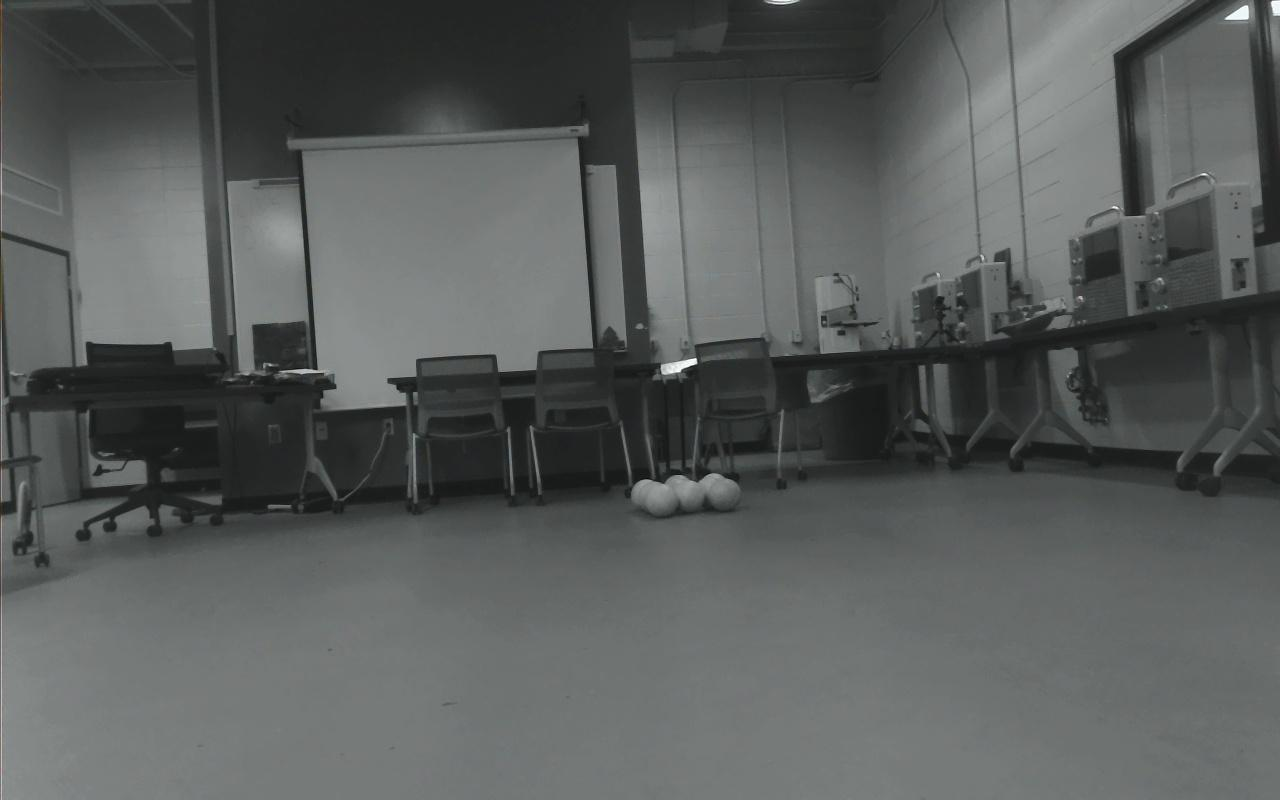Fuel: (707, 478, 741, 512), (673, 480, 707, 513), (645, 486, 677, 518), (696, 477, 724, 509), (631, 478, 659, 509), (698, 474, 726, 503), (667, 479, 695, 508), (639, 481, 666, 511), (666, 474, 694, 502)
